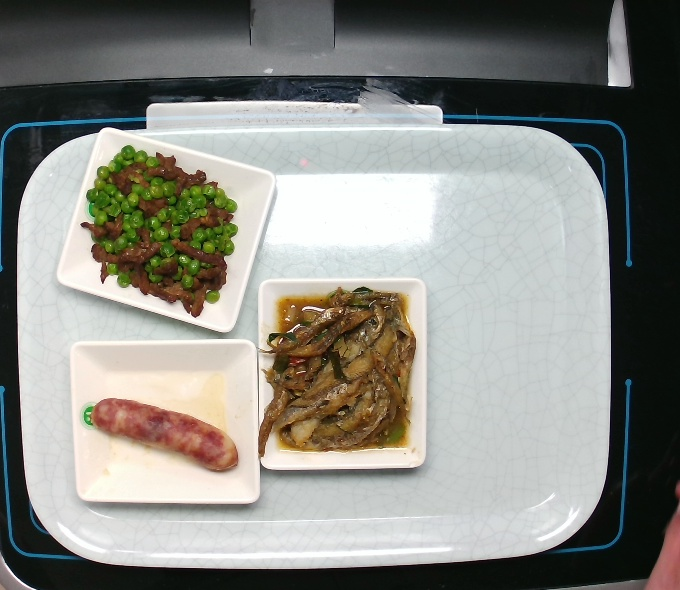wcq-CanDouNiuRou: (74, 140, 241, 321)
wcq-XiangChang: (86, 392, 242, 479)
wcq-XiaoJiYu: (255, 284, 421, 461)
